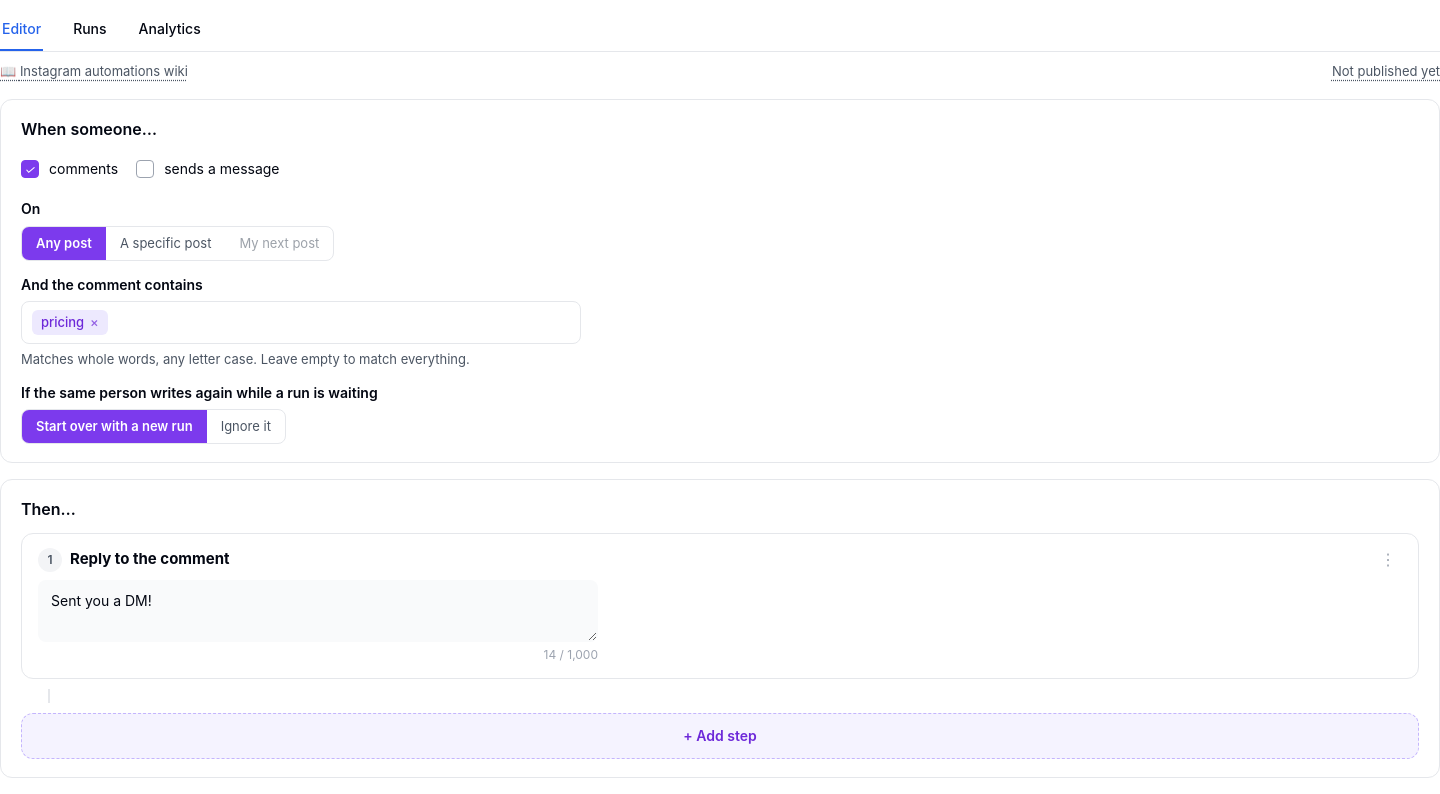
editor page › renders the draft from the API and publishes it as version 1
The image size is (1440, 794).
(page scrolled)
expect the text "Not published yet" is shown: met, box [1332, 62, 1439, 81]
expect the text box named "Reply text" holds "Sent you a DM!": met, box [38, 580, 598, 642]
What coordinates should you click on to do the following:
click the button "+ Add step"
I would click on:
 (720, 736)
Its box is [21, 713, 1419, 759].
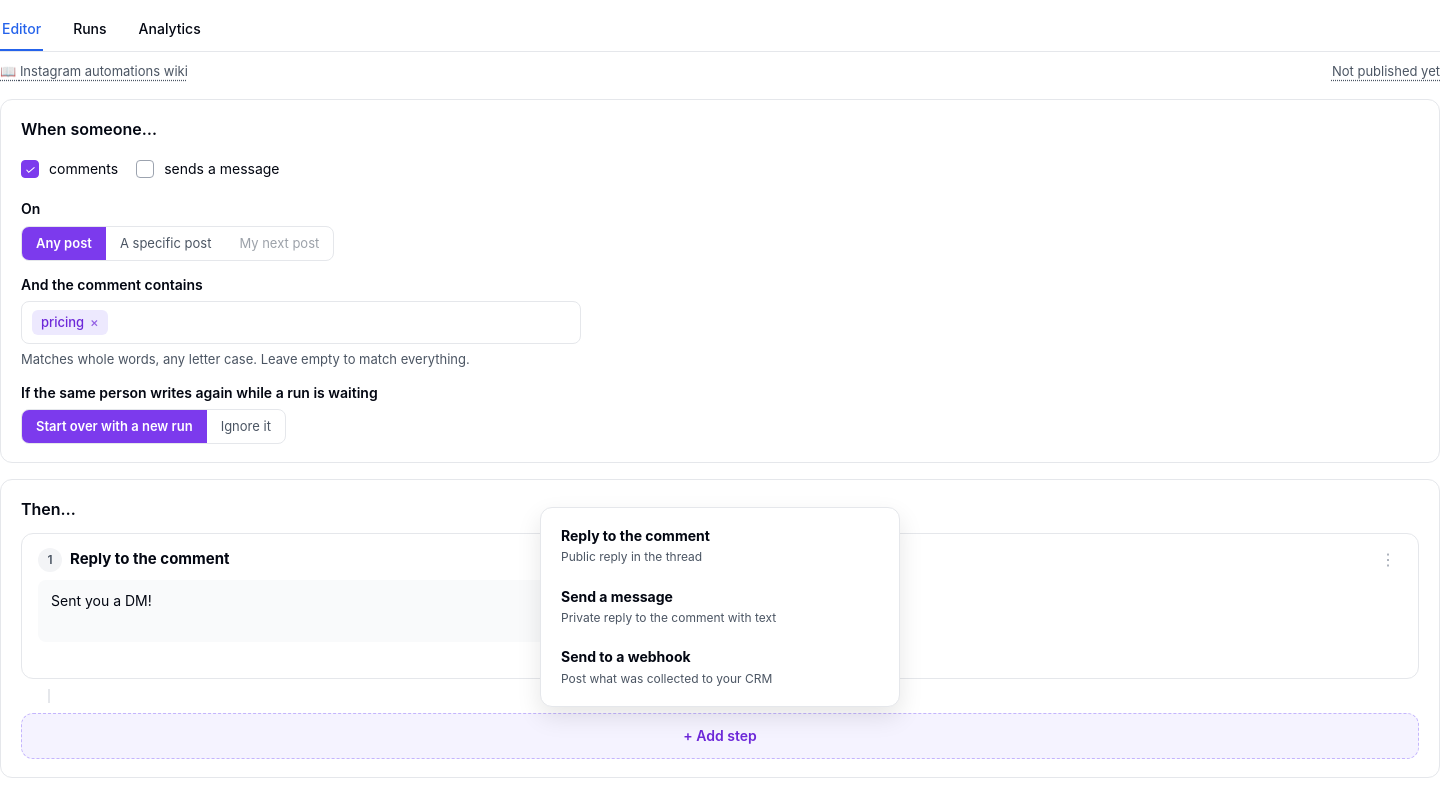
What coordinates should you click on to do the following:
click the text "Send a message"
I would click on:
 (617, 596)
Its box is [561, 588, 673, 605].
(page scrolled)
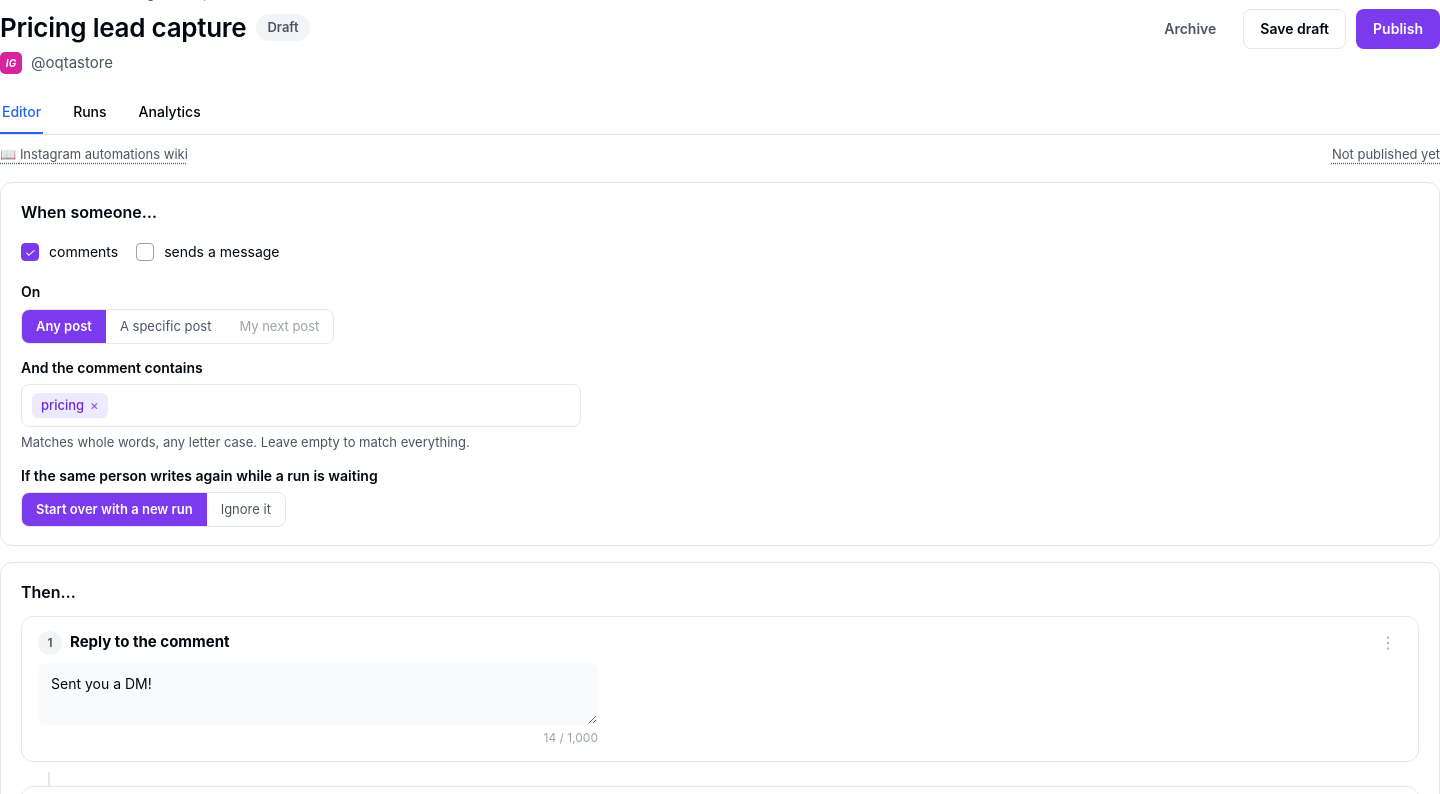
What coordinates should you click on to do the following:
click the button "Publish"
I would click on:
 (1398, 29)
Its box is [1356, 9, 1439, 49].
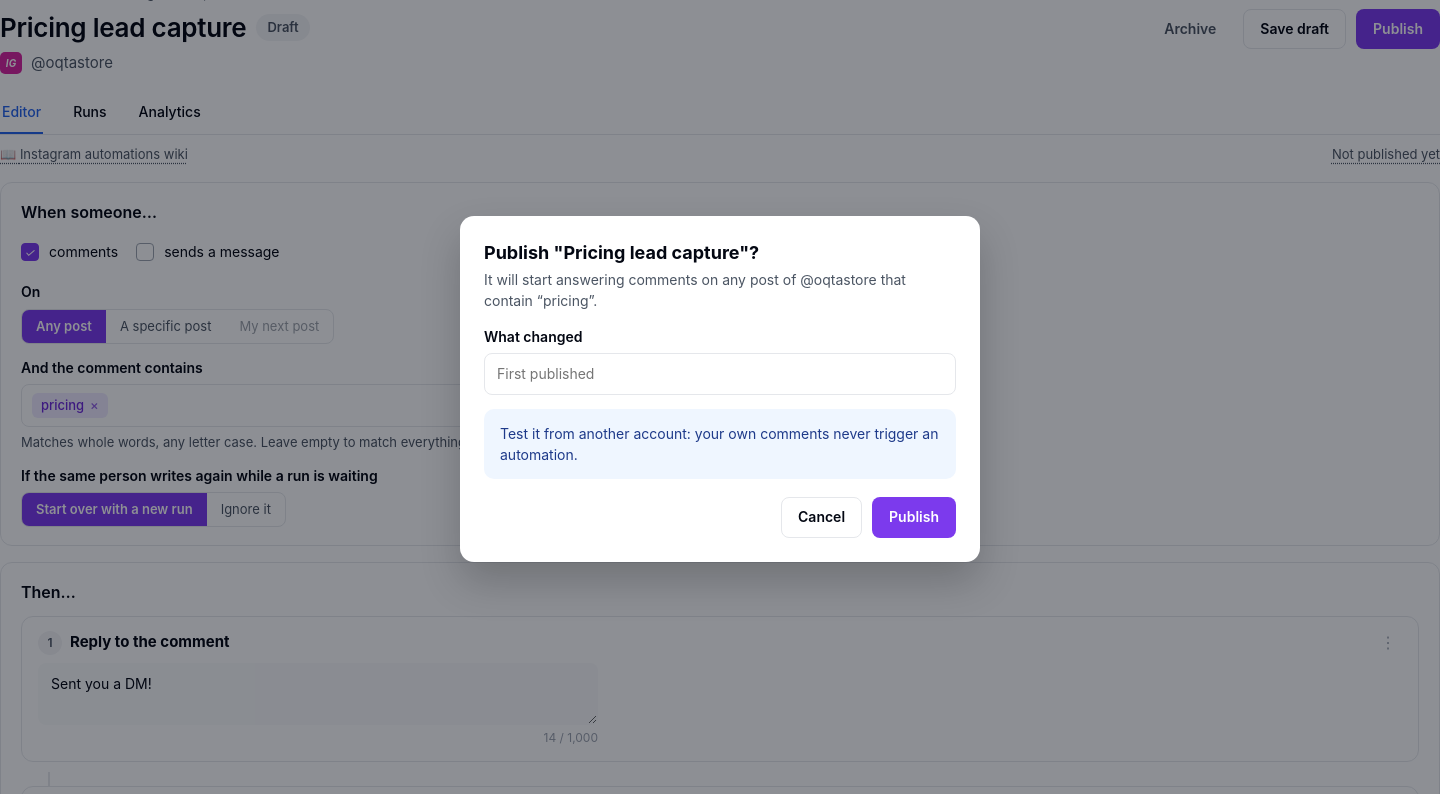
What coordinates should you click on to do the following:
click the button "Publish"
I would click on:
 (914, 518)
Its box is [872, 498, 956, 538].
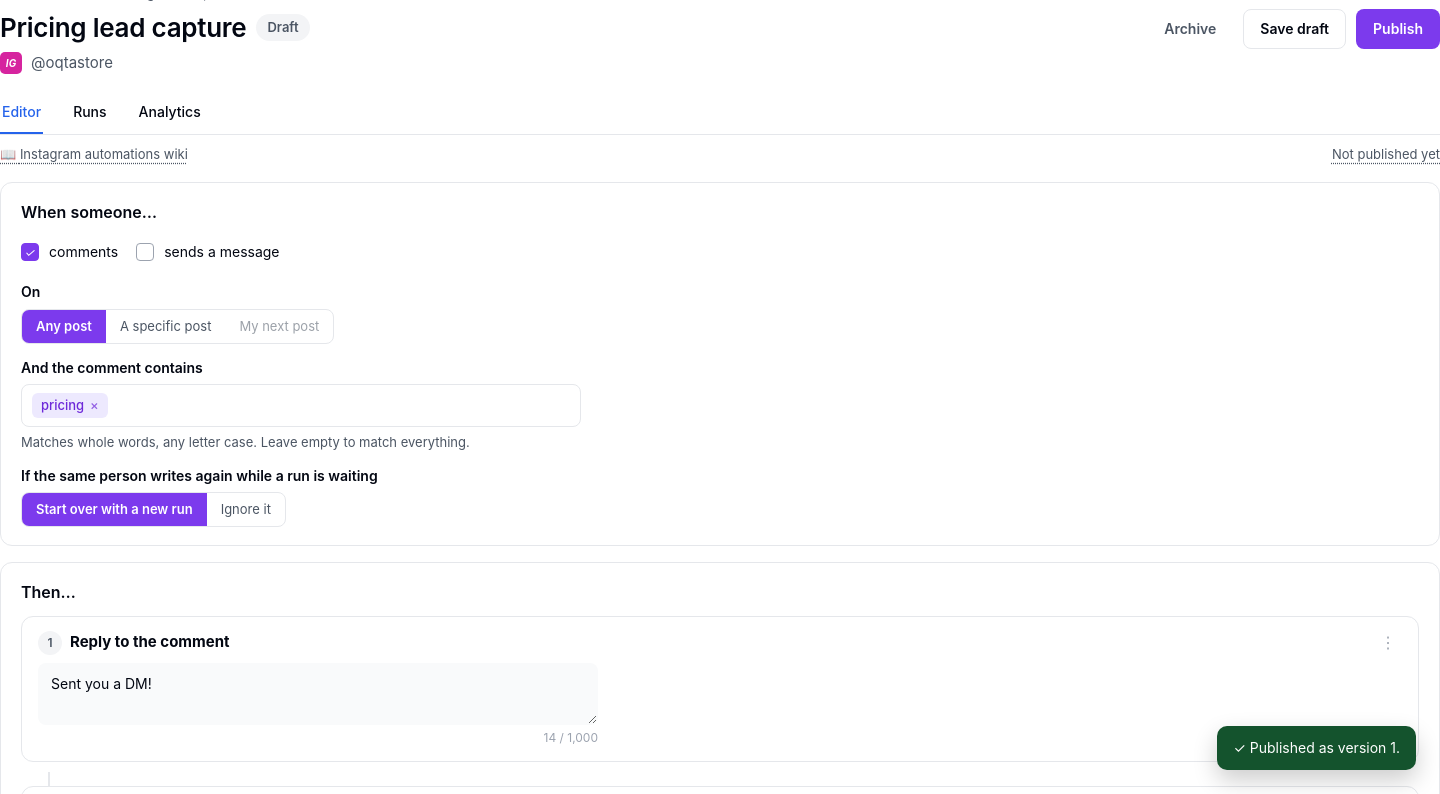
expect the text "✓ Published as version 1." is shown: met, box [1217, 726, 1416, 770]
